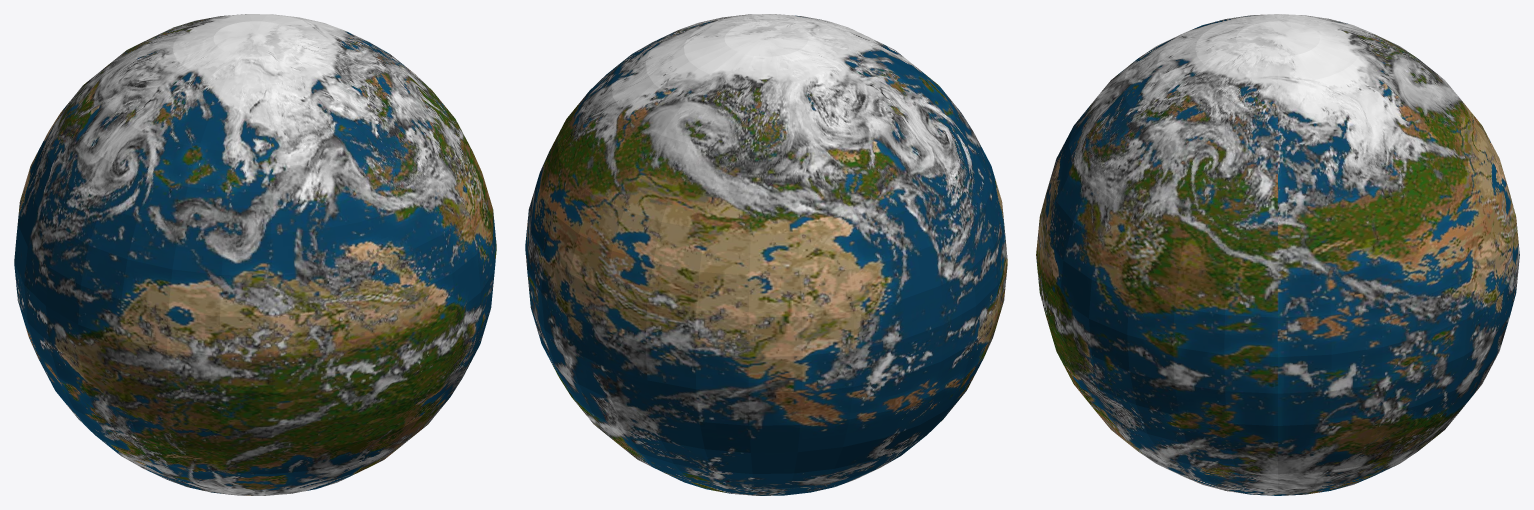
File: oxford.glb
3 renders of one model, left to right at view 1: azimuth 30°, elevation 25°; view 2: azimuth 150°, elevation 25°; view 3: azimuth 270°, elevation 25°, orthographic.
Parts seen in each view (by area): view 1: university_sphere.obj; view 2: university_sphere.obj; view 3: university_sphere.obj.
Boxes of the visible parts, box(x1,y1,x2,y2) form: university_sphere.obj: box(14, 14, 496, 495); university_sphere.obj: box(525, 14, 1007, 495); university_sphere.obj: box(1036, 14, 1519, 495).
Size of the model in its own units: 2 by 2 by 2.
Materials: 1 (1 with a texture image).
